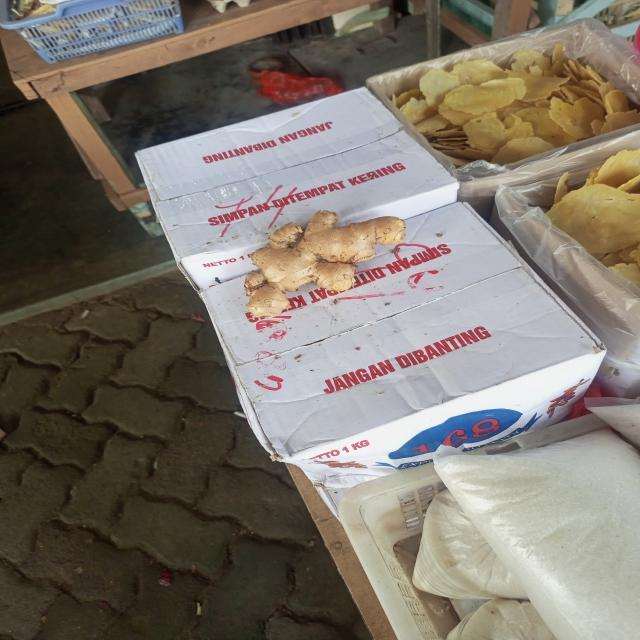ginger: (244, 212, 408, 320)
